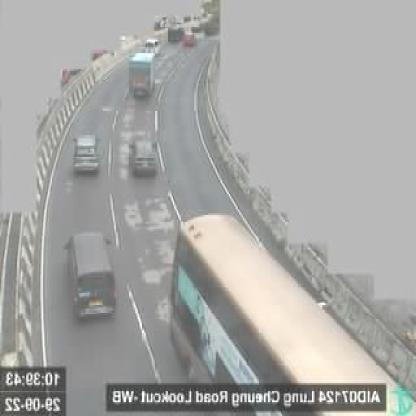Bus: (168, 212, 413, 414)
Car: (62, 218, 129, 330), (122, 128, 163, 184), (69, 126, 103, 178), (165, 24, 185, 44), (142, 36, 164, 54), (182, 30, 200, 48)
Truck: (119, 51, 162, 102)
